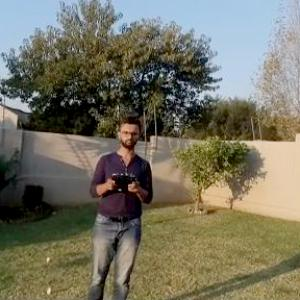follow: (84, 103, 160, 299)
